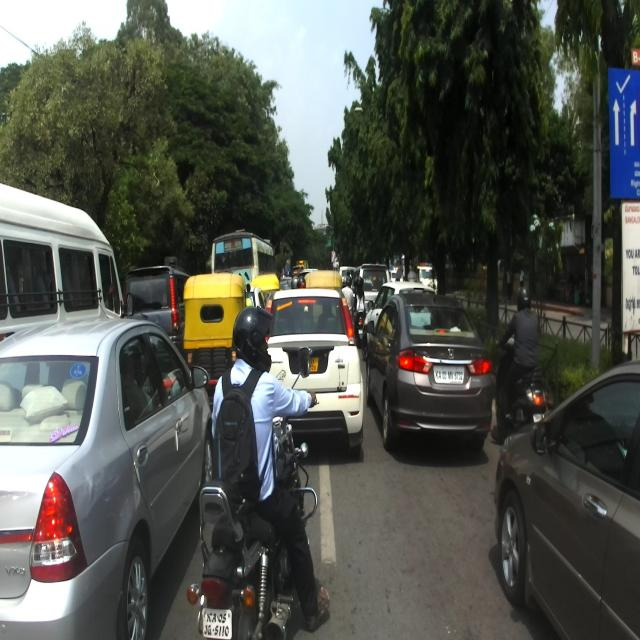Car: (362, 280, 436, 360)
Car_Honda: (493, 356, 640, 639), (365, 292, 493, 454)
Car_Mahindra: (264, 288, 364, 457), (122, 264, 190, 356)
Car_Toyota: (0, 316, 212, 638)
autorickshaw: (182, 271, 250, 413)
motorcycle_bajaj: (186, 344, 320, 639)
scooter: (495, 332, 547, 437)
